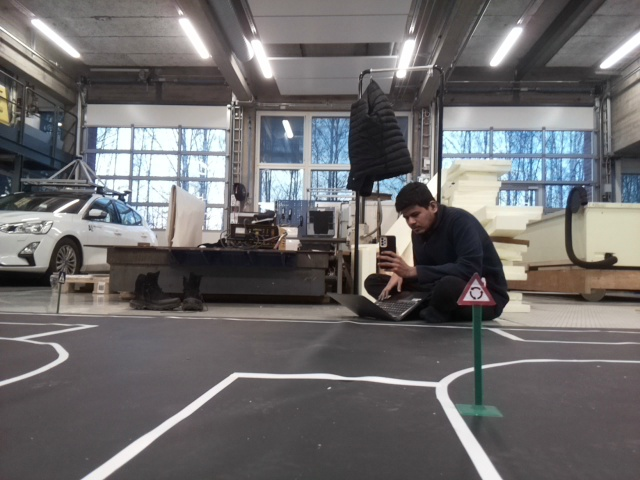Roundabout: (455, 272, 497, 305)
